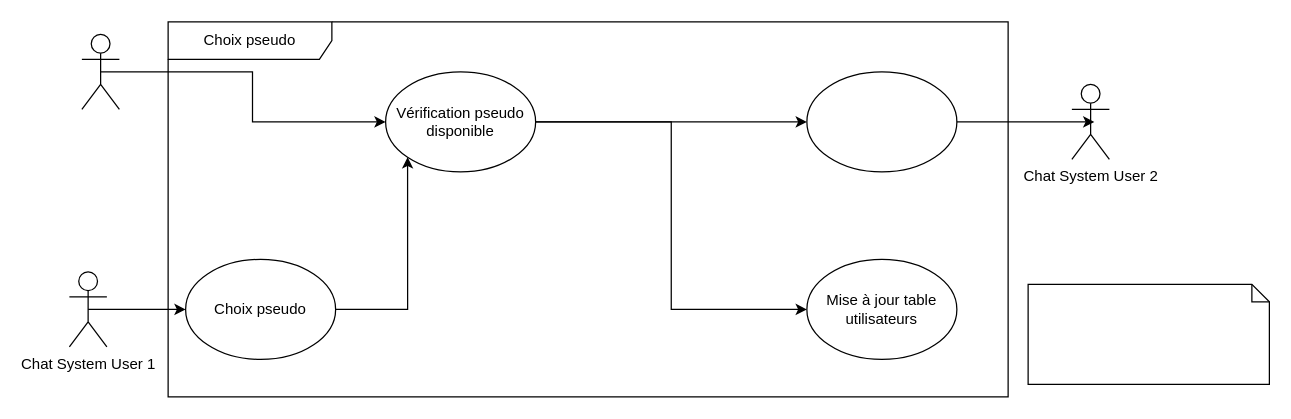
Image size: 1291x419. Some labels were removed from this diagram. The box of each missing label's shape, as (x1, y1, x2, y2) in pixels:
Clavier: (81, 33, 119, 109)
Notifier: (806, 71, 957, 172)
On dispose au préalable de la table des utilisateurs présents actuellement: (1027, 283, 1269, 384)
